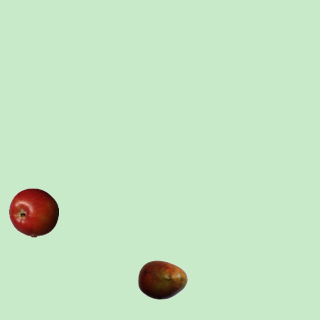Apple Braeburn: (8, 187, 58, 237)
Mango Red: (137, 254, 187, 304)
